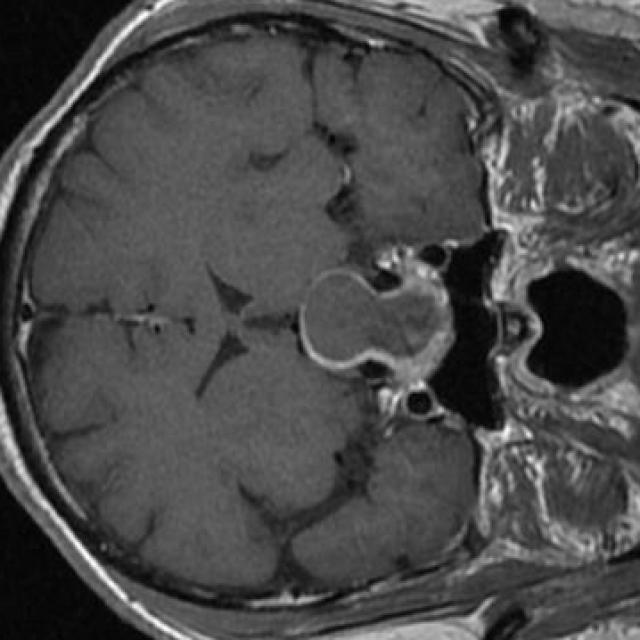pituitary: (298, 257, 453, 382)
